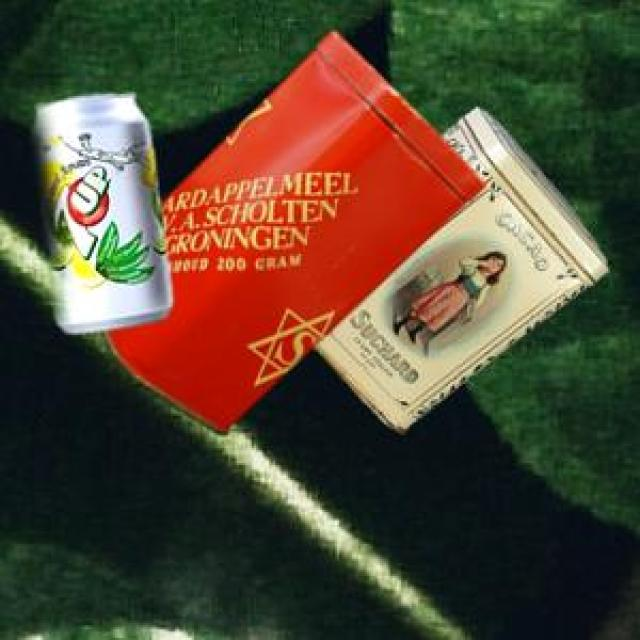logam: (97, 29, 481, 432), (310, 106, 605, 430), (37, 91, 170, 330)
